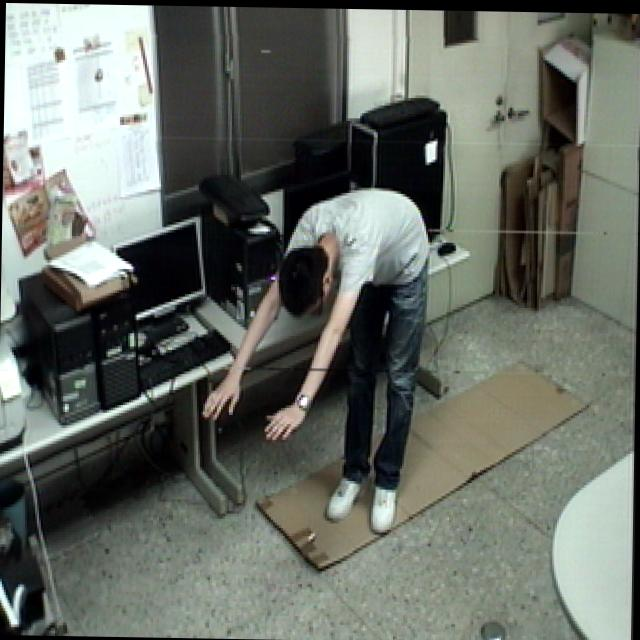bend: (195, 184, 440, 548)
